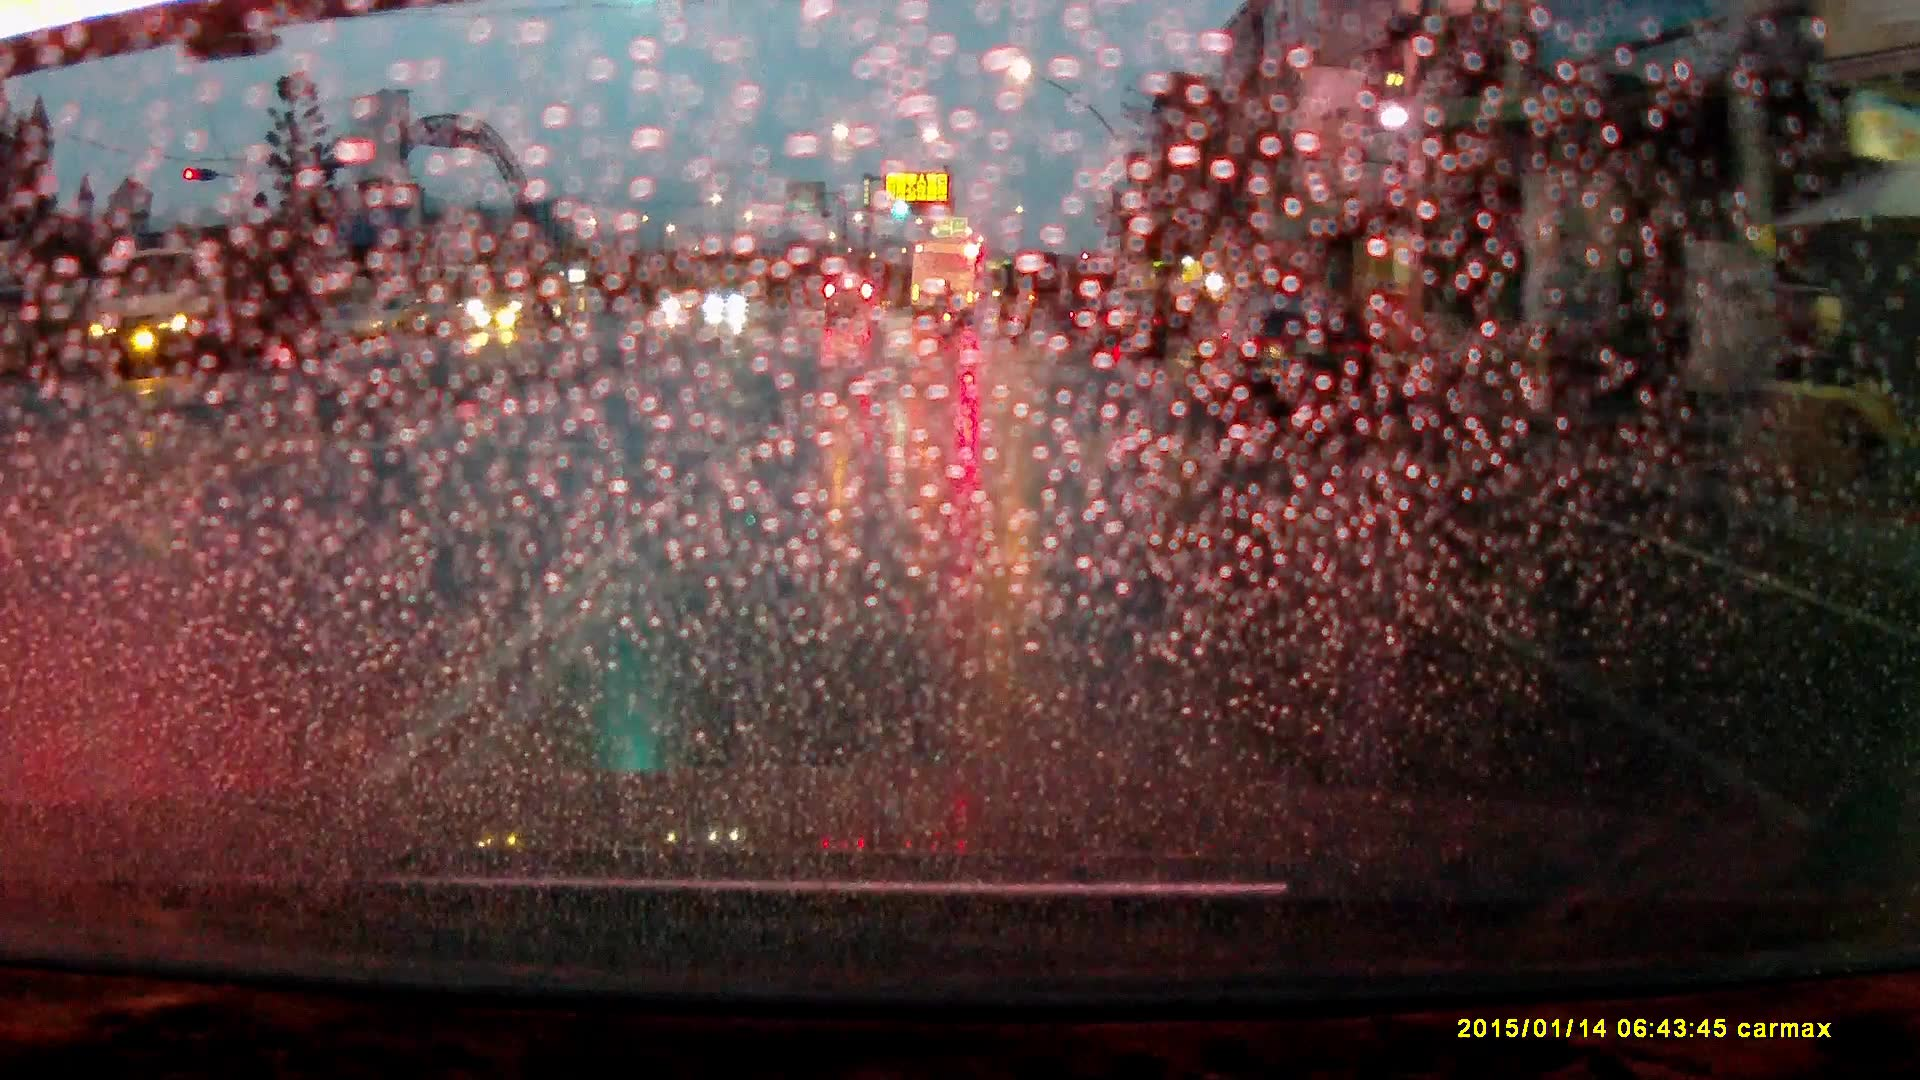rider: (935, 289, 963, 351)
vehicle: (81, 249, 292, 382), (1199, 311, 1389, 427), (469, 264, 575, 340), (911, 242, 980, 330), (1086, 304, 1170, 361), (824, 286, 883, 334), (703, 293, 750, 322)
